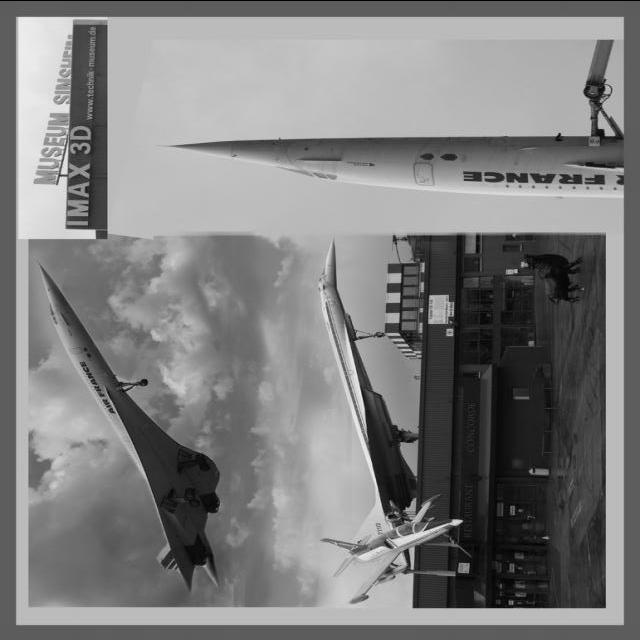Missile: (153, 82, 632, 199)
